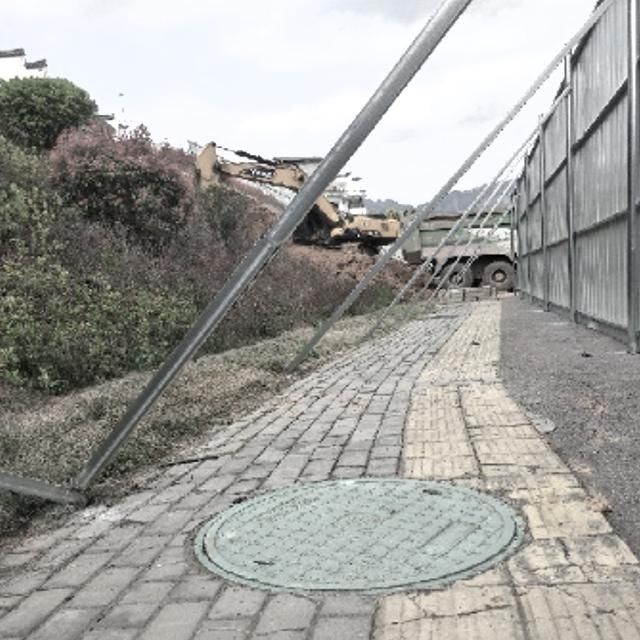good: (193, 477, 525, 594)
